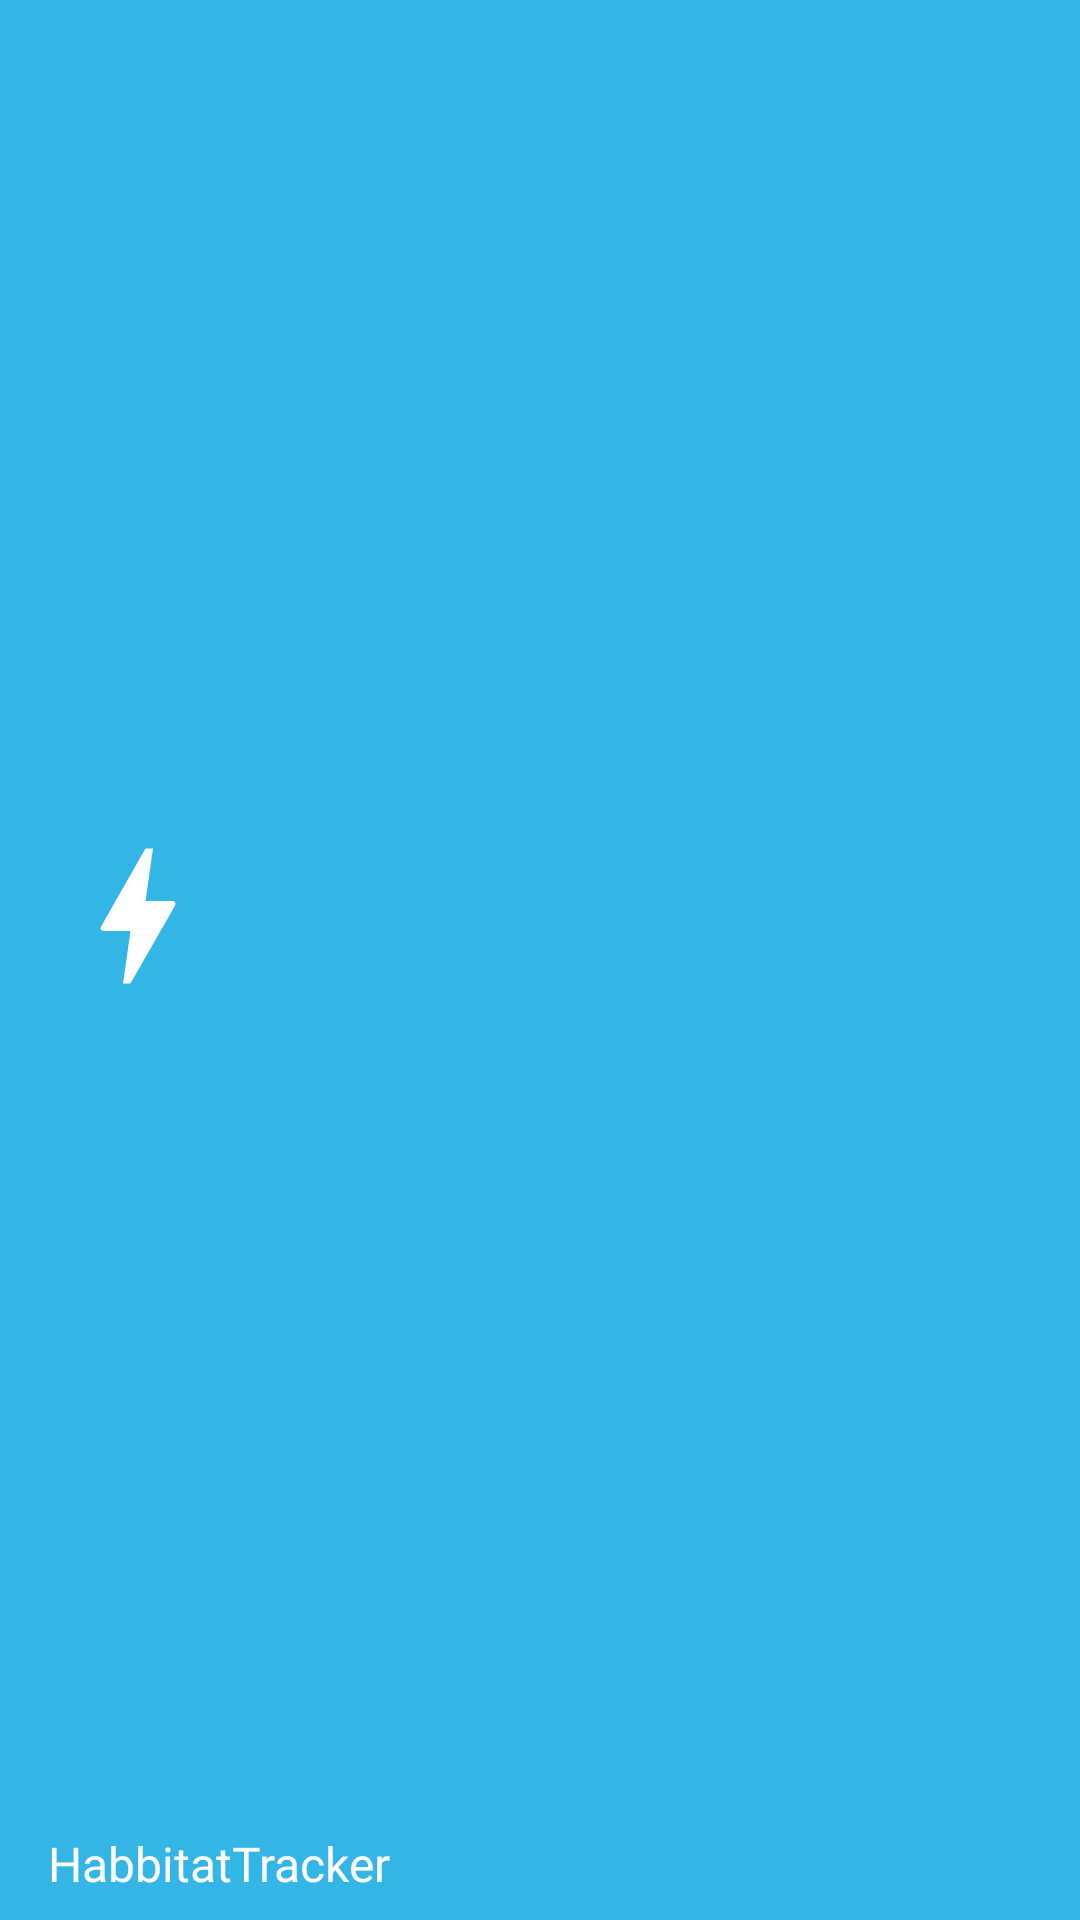

Named icons in this screenshot (1080×1920) and their bounding boxes, (x1, y1, x2, y2):
bolt: (100, 848, 176, 984)
